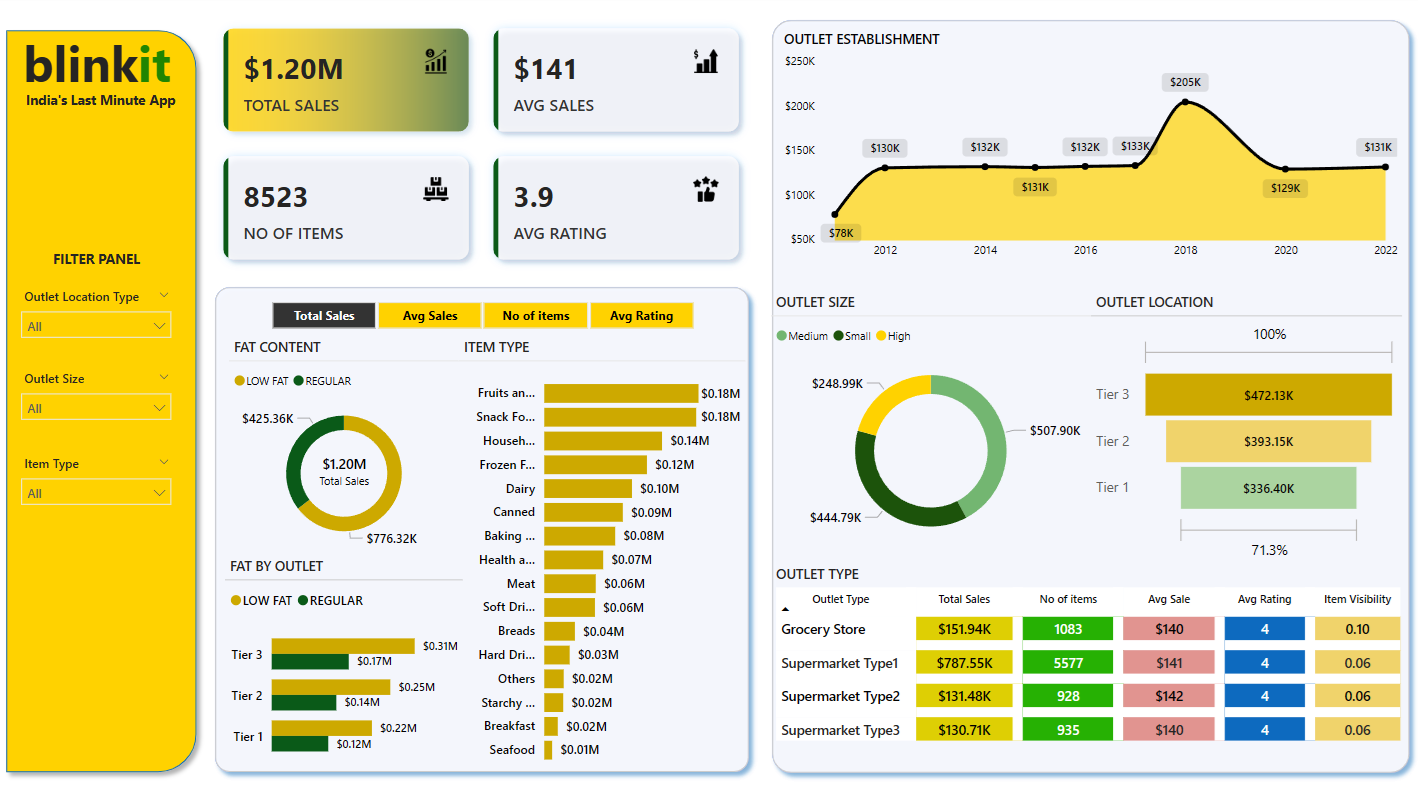

This screenshot's page, from the dashboard's own definition file:
{"tool":"powerbi","page":{"name":"Page 1","canvas":[1400,800],"ordinal":0},"visuals":[{"type":"shape","box":[0,24.9,205.5,749.1],"z":0},{"type":"textbox","box":[15,27.9,167.6,75.8],"z":1000},{"type":"textbox","box":[18,88.8,168.6,28.9],"z":2000},{"type":"cardVisual","fields":{"Data":["Table1.Total Sales","Table1.Average Sale","Table1.Number of items","Table1.Avg Rating"]},"box":[205.5,15,543.6,263.3],"z":3000},{"type":"shape","box":[205.5,278.3,543.6,495.8],"z":4000},{"type":"donutChart","title":"FAT CONTENT","fields":{"Y":["Table1.Total Sales"],"Category":["Table1.Item Fat Content"]},"box":[228.4,337.2,226.4,215.5],"z":5000},{"type":"slicer","fields":{"Values":["Metrics.Metrics"]},"box":[245.4,294.3,464.8,36.9],"z":6000},{"type":"cardVisual","fields":{"Data":["Table1.Total Sales"]},"box":[294.3,435.9,95.8,60.8],"z":7000},{"type":"clusteredBarChart","title":"FAT BY OUTLET","fields":{"Y":["Table1.Total Sales"],"Category":["Table1.Outlet Location Type"],"Series":["Table1.Item Fat Content"]},"box":[224.4,552.6,234.4,213.5],"z":8000},{"type":"clusteredBarChart","title":"ITEM TYPE","fields":{"Y":["Table1.Total Sales"],"Category":["Table1.Item Type"]},"box":[454.9,337.2,282.3,428.9],"z":9000},{"type":"shape","box":[754.3,14.9,645.7,759.6],"z":10000},{"type":"lineChart","title":"OUTLET ESTABLISHMENT","fields":{"Y":["Table1.Total Sales"],"Category":["Table1.Outlet Establishment Year"]},"box":[770.1,33.9,614.5,235.4],"z":11000},{"type":"donutChart","title":"OUTLET SIZE","fields":{"Y":["Table1.Total Sales"],"Category":["Table1.Outlet Size"]},"box":[762.8,292.6,314.9,259.6],"z":12000},{"type":"funnel","title":"OUTLET LOCATION","fields":{"Y":["Sum(Table1.Sales)"],"Category":["Table1.Outlet Location Type"]},"box":[1077.7,292.6,306.4,268.1],"z":13000},{"type":"pivotTable","title":"OUTLET TYPE","fields":{"Rows":["Table1.Outlet Type"],"Values":["Table1.Total Sales","Table1.Number of items","Table1.Average Sale","Table1.Avg Rating","Avg(Table1.Item Visibility)"]},"box":[762.8,560.6,637.2,205.3],"z":14000},{"type":"slicer","fields":{"Values":["Table1.Outlet Location Type"]},"box":[14,282.8,168.1,61.7],"z":15000},{"type":"slicer","fields":{"Values":["Table1.Outlet Size"]},"box":[14,363.6,168.1,61.7],"z":16000},{"type":"slicer","fields":{"Values":["Table1.Item Type"]},"box":[14,447.7,168.1,61.7],"z":17000},{"type":"textbox","box":[38.5,245.5,119.1,26.6],"z":18000}]}

Visuals, with their boxes in screenshot pixels (x1, y1, x2, y2), scaled from the page's 1400x800 canvas onto the 1418x788 screenshot:
shape: left=0, top=25, right=208, bottom=762
textbox: left=15, top=27, right=185, bottom=102
textbox: left=18, top=87, right=189, bottom=116
cardVisual - Table1.Total Sales x Table1.Average Sale: left=208, top=15, right=759, bottom=274
shape: left=208, top=274, right=759, bottom=762
"FAT CONTENT" donutChart: left=231, top=332, right=461, bottom=544
slicer - Metrics.Metrics: left=249, top=290, right=719, bottom=326
cardVisual - Table1.Total Sales: left=298, top=429, right=395, bottom=489
"FAT BY OUTLET" clusteredBarChart: left=227, top=544, right=465, bottom=755
"ITEM TYPE" clusteredBarChart: left=461, top=332, right=747, bottom=755
shape: left=764, top=15, right=1417, bottom=763
"OUTLET ESTABLISHMENT" lineChart: left=780, top=33, right=1402, bottom=265
"OUTLET SIZE" donutChart: left=773, top=288, right=1092, bottom=544
"OUTLET LOCATION" funnel: left=1092, top=288, right=1402, bottom=552
"OUTLET TYPE" pivotTable: left=773, top=552, right=1417, bottom=754
slicer - Table1.Outlet Location Type: left=14, top=279, right=184, bottom=339
slicer - Table1.Outlet Size: left=14, top=358, right=184, bottom=419
slicer - Table1.Item Type: left=14, top=441, right=184, bottom=502
textbox: left=39, top=242, right=160, bottom=268
